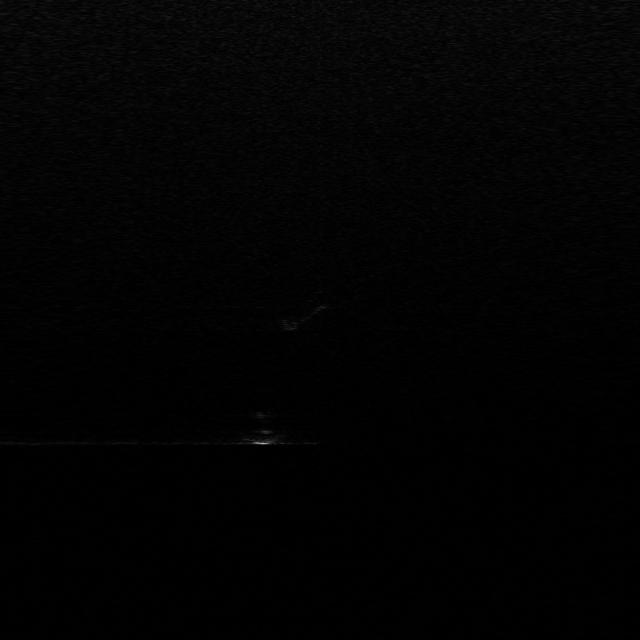ball: (232, 408, 293, 444)
tyre: (278, 293, 328, 330)
